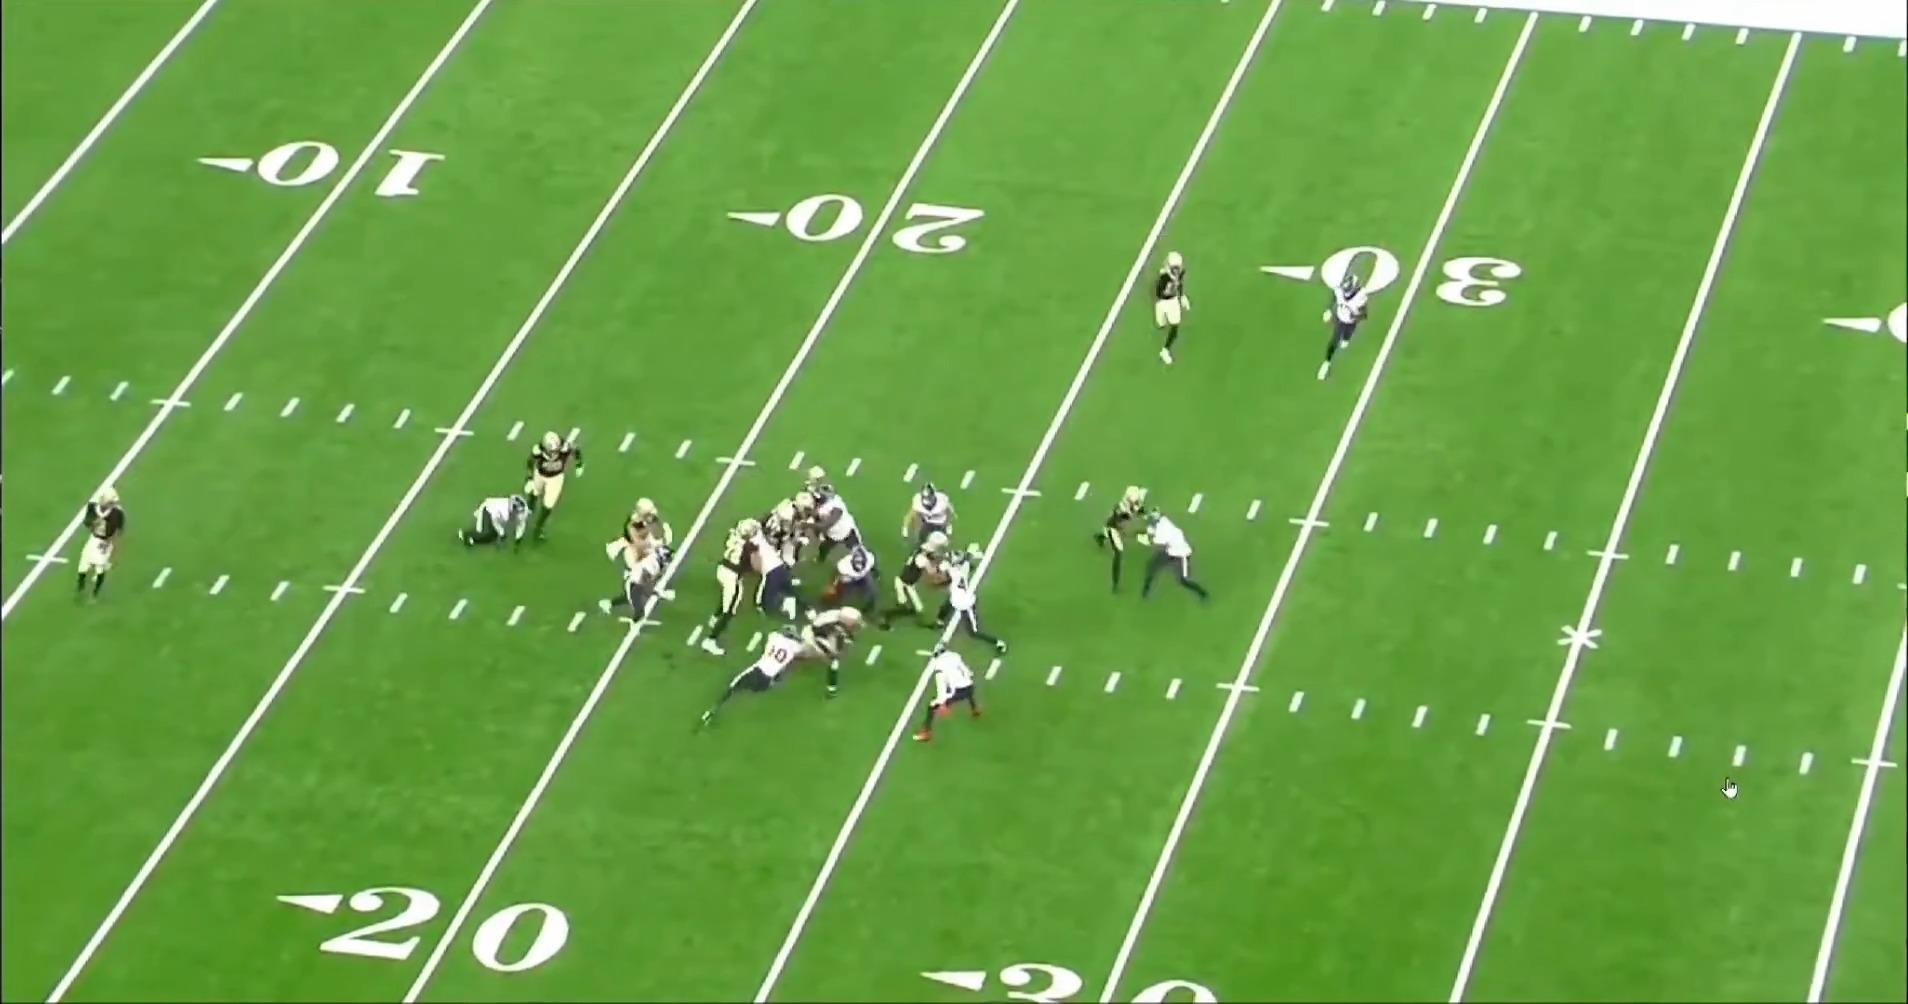defense: (701, 617, 806, 727), (932, 541, 1016, 656), (1140, 509, 1221, 610), (596, 530, 674, 634), (911, 642, 988, 746), (1318, 271, 1379, 388), (818, 539, 893, 624), (746, 514, 800, 621), (802, 484, 867, 568), (456, 494, 534, 558), (903, 480, 961, 557)
oline: (702, 519, 776, 660), (517, 428, 587, 544), (762, 490, 814, 566), (766, 508, 797, 542)
qb: (73, 483, 133, 610)
skill: (609, 497, 678, 610), (790, 606, 867, 700), (1097, 479, 1156, 596), (1153, 249, 1202, 374), (881, 534, 945, 625)
